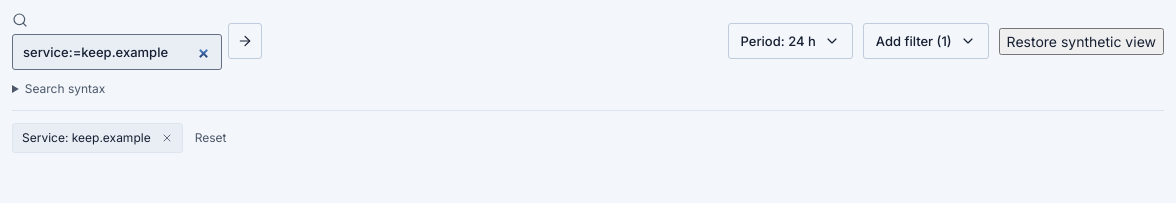
Scenario: does not broaden or partially apply invalid input sensitivity:sensitive
Click the search field at (117, 52), box [12,34,222,70]
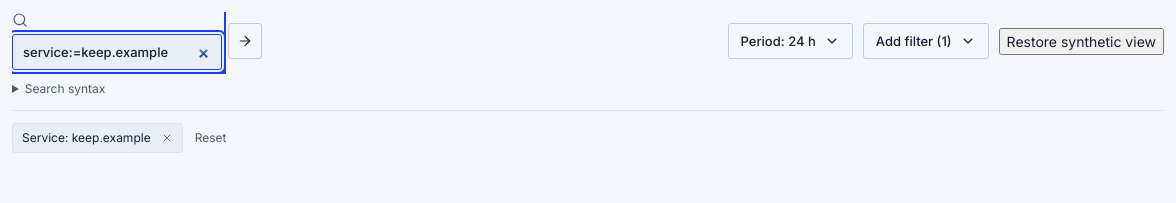
Type keys "{Control>}a{/Control}"
Type keys "sensitivity:sensitive"
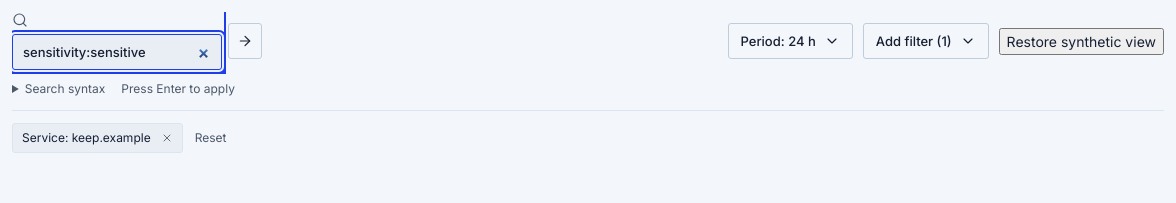
Press Enter
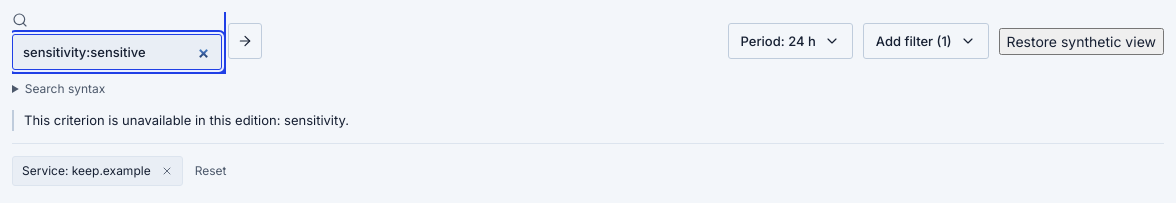
Expected: the button "Service: keep.example" is shown, [22,162,151,180]
Result: the message "This criterion is unavailable in this edition: sensitivity." is shown at [12,110,1164,131]
